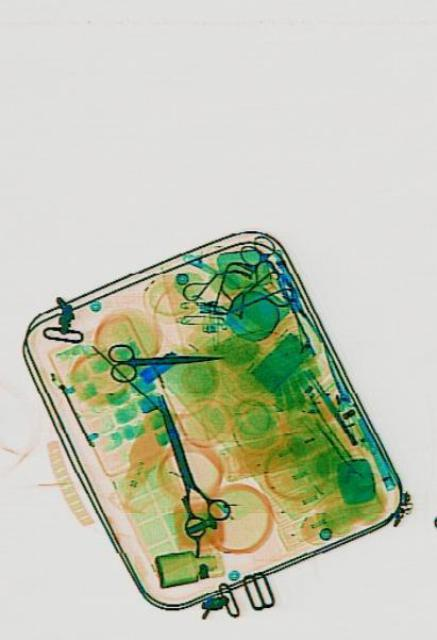Scissors: (141, 378, 230, 542), (106, 335, 221, 383)
